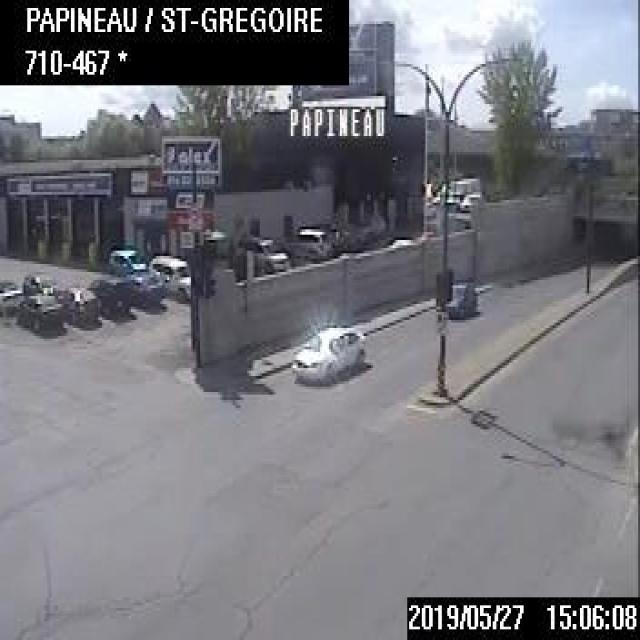vehicle: (287, 323, 364, 381), (234, 232, 288, 272), (18, 289, 63, 336), (146, 252, 190, 300), (86, 274, 130, 318), (58, 282, 100, 324), (124, 270, 163, 305), (442, 280, 476, 317), (296, 225, 331, 260), (443, 174, 478, 208), (108, 245, 146, 274), (19, 269, 60, 290), (0, 279, 24, 313), (458, 190, 481, 210)
